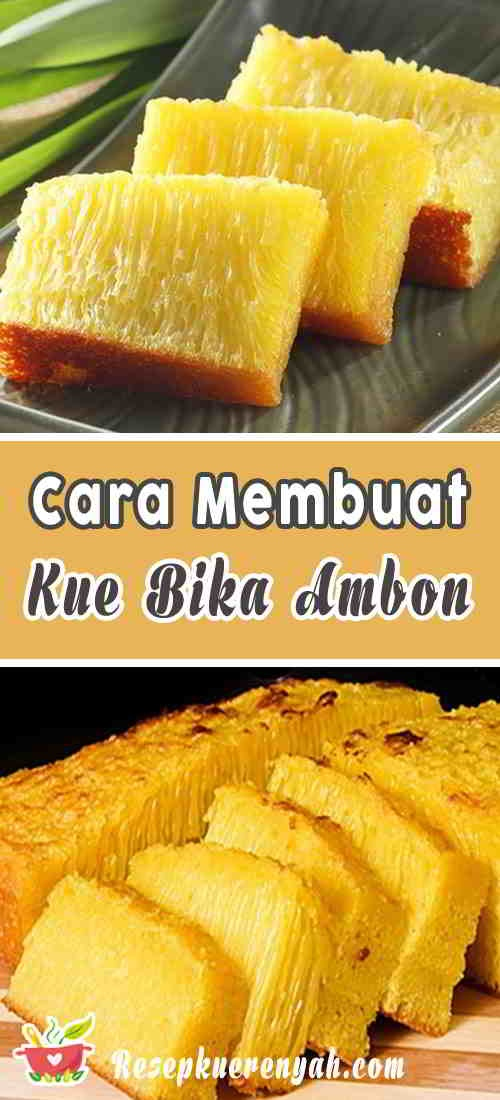bika_ambon: (22, 744, 336, 1077), (101, 60, 441, 367), (10, 151, 325, 426), (13, 860, 227, 1097)
